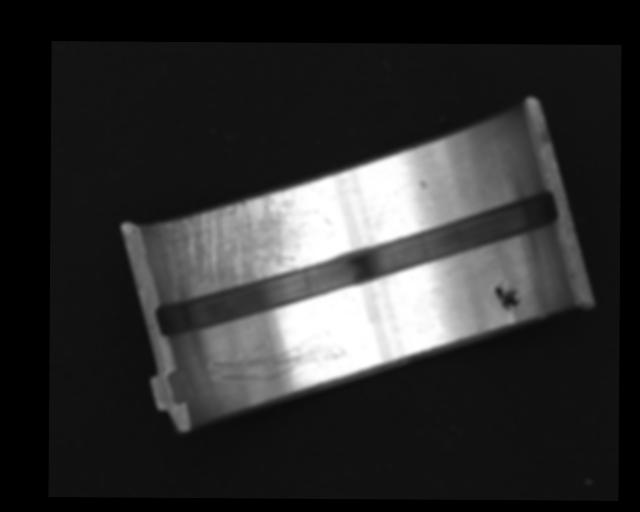blot: (495, 280, 521, 312)
bruise: (417, 179, 428, 191)
gap: (153, 186, 562, 338)
nick: (209, 330, 347, 384)
scratch: (156, 179, 320, 302)
